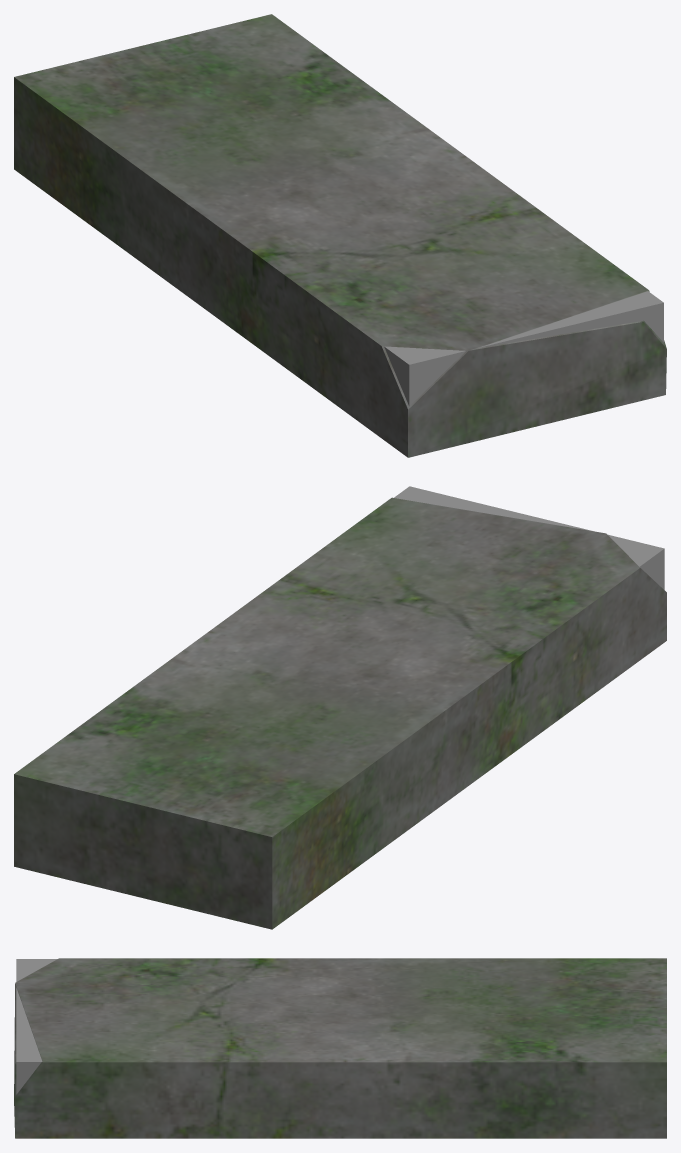
File: Scene_Rock_ShiTiao_3.fbx
3 renders of one model, top to bottom at view 1: azimuth 30°, elevation 25°; view 2: azimuth 150°, elevation 25°; view 3: azimuth 270°, elevation 25°, orthographic. The views are drawn at different scales.
Parts seen in each view (by area): view 1: Scene_Rock_ShiTiao_3, Scene_Rock_ShiTiao_3_Xzm; view 2: Scene_Rock_ShiTiao_3, Scene_Rock_ShiTiao_3_Xzm; view 3: Scene_Rock_ShiTiao_3, Scene_Rock_ShiTiao_3_Xzm.
Part boxes in pixels (x1=…): Scene_Rock_ShiTiao_3: x1=14, y1=14, x2=666, y2=457; Scene_Rock_ShiTiao_3_Xzm: x1=384, y1=291, x2=663, y2=406; Scene_Rock_ShiTiao_3: x1=14, y1=497, x2=666, y2=929; Scene_Rock_ShiTiao_3_Xzm: x1=394, y1=486, x2=664, y2=589; Scene_Rock_ShiTiao_3: x1=14, y1=958, x2=666, y2=1138; Scene_Rock_ShiTiao_3_Xzm: x1=16, y1=959, x2=57, y2=1094.
Size of the model in its own units: 152 by 51.98 by 403.
